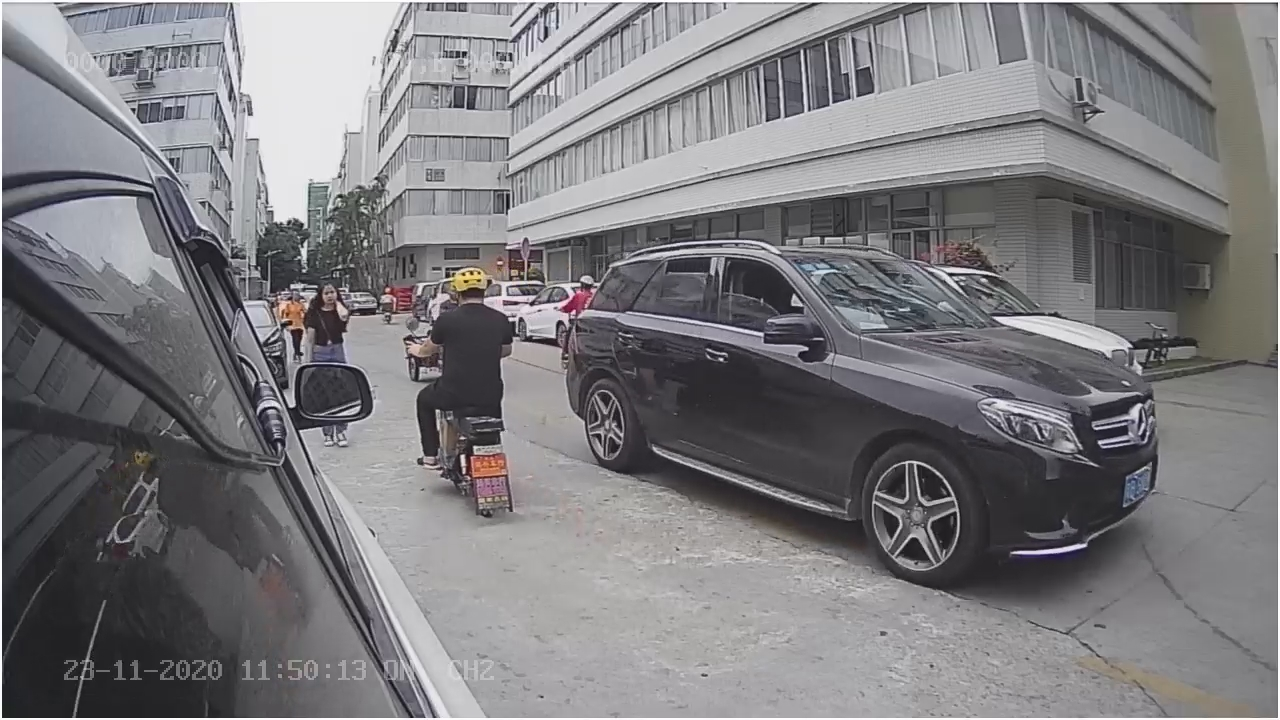person: (406, 268, 518, 362)
